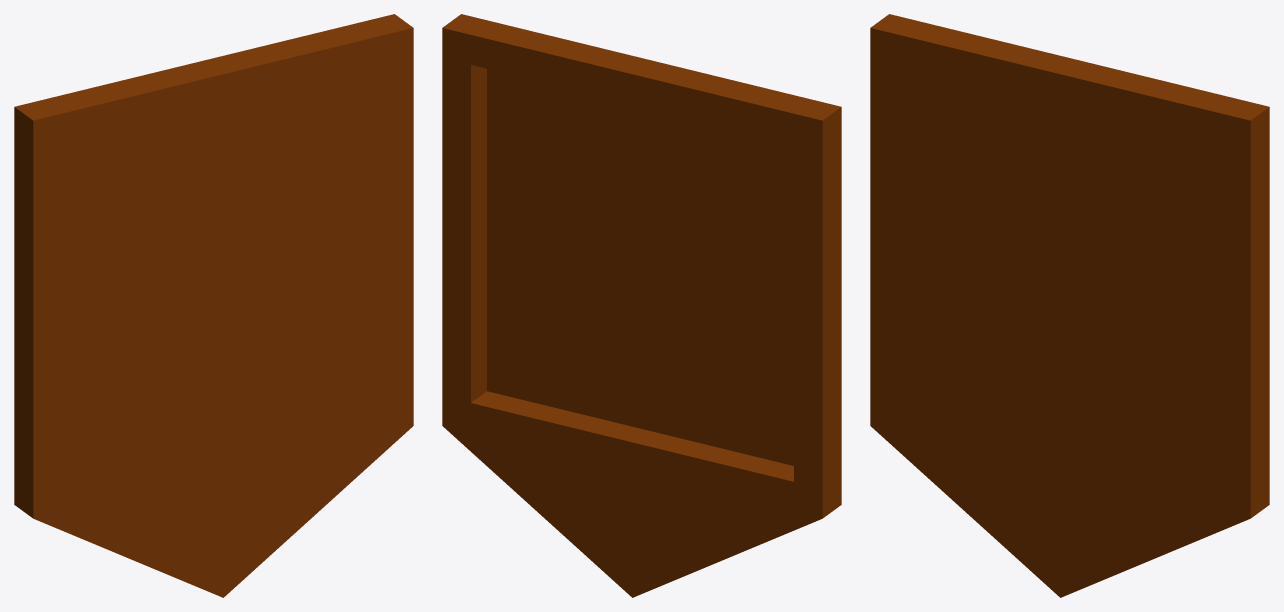
The model's file is house_template_13.fbx.
3 renders of one model, left to right at view 1: azimuth 30°, elevation 25°; view 2: azimuth 150°, elevation 25°; view 3: azimuth 330°, elevation 25°, orthographic.
Visible parts, largest first — view 1: house template_13; view 2: house template_13; view 3: house template_13.
Boxes of the visible parts, x1,y1,x2,y2 form: house template_13: (14, 14, 413, 597); house template_13: (442, 14, 841, 597); house template_13: (870, 14, 1269, 597).
Size of the model in its own units: 90.75 by 119 by 7.85.
